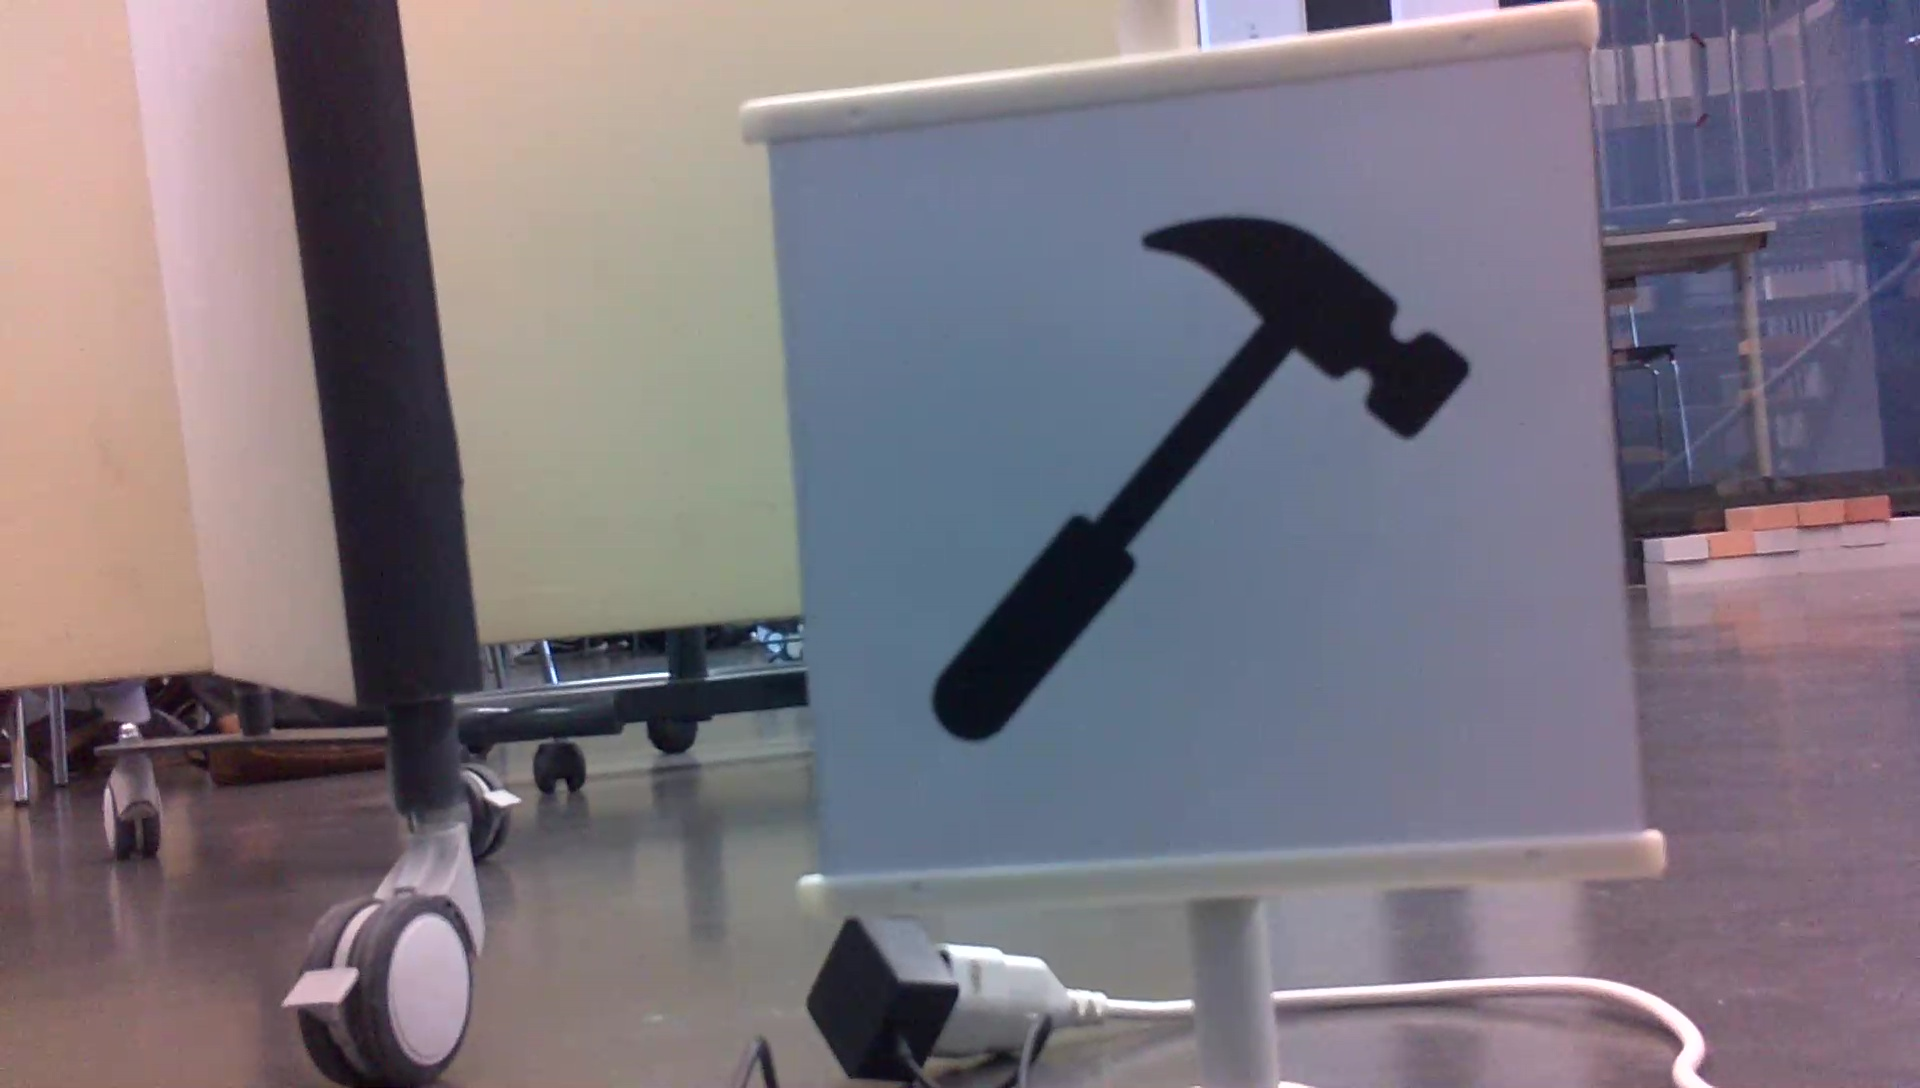hammer: (915, 208, 1481, 750)
